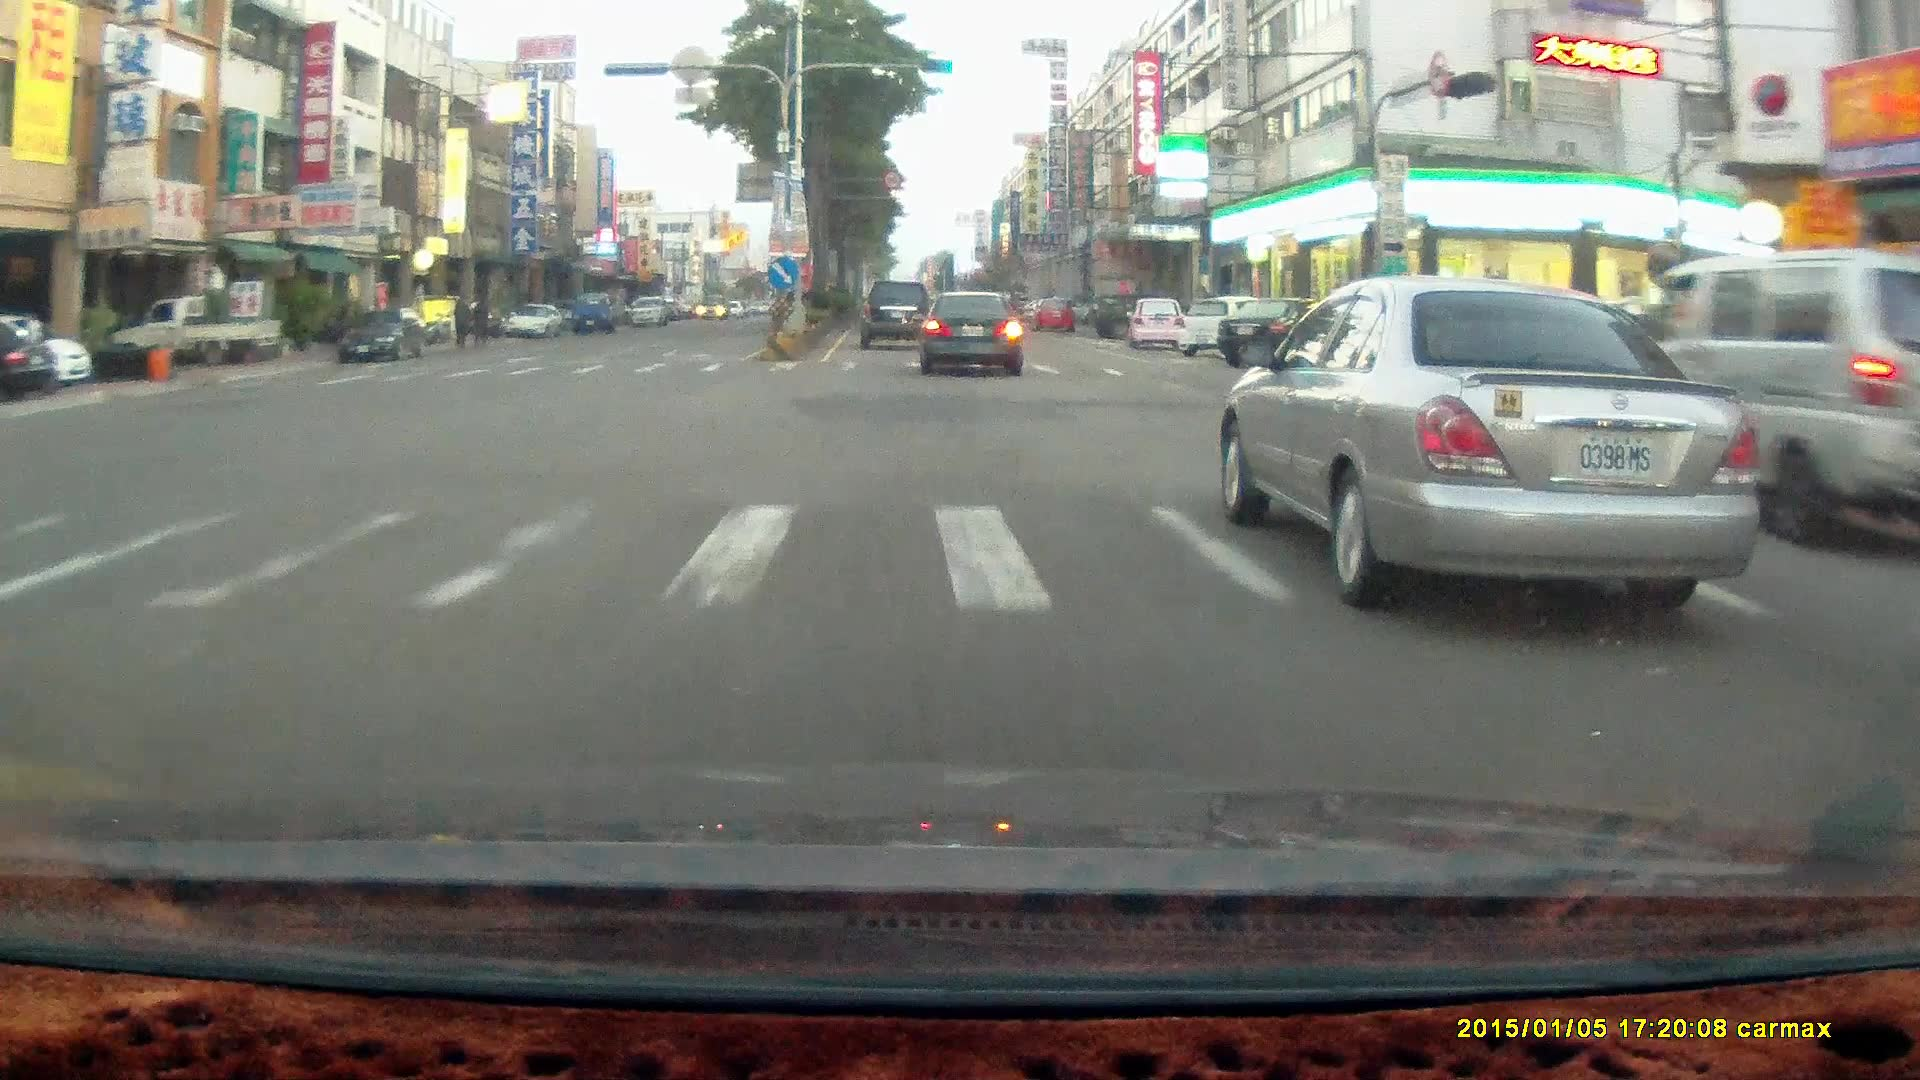pedestrian: (473, 281, 497, 345), (451, 287, 473, 347), (470, 292, 491, 350), (450, 289, 470, 349)
vehicle: (1225, 284, 1763, 603), (1621, 246, 1920, 556), (1615, 254, 1920, 528), (109, 292, 279, 375), (106, 293, 280, 370), (1215, 292, 1346, 363), (923, 292, 1029, 380), (920, 287, 1022, 374), (1220, 296, 1339, 366), (332, 301, 434, 364), (1180, 294, 1280, 357), (860, 276, 934, 352), (858, 278, 934, 349), (338, 309, 426, 361), (0, 323, 51, 393), (1122, 296, 1186, 350), (1092, 290, 1163, 337), (1130, 297, 1188, 351), (504, 303, 567, 341), (570, 294, 618, 336), (504, 302, 561, 336), (570, 289, 611, 331), (1031, 293, 1075, 329), (629, 294, 667, 325)
